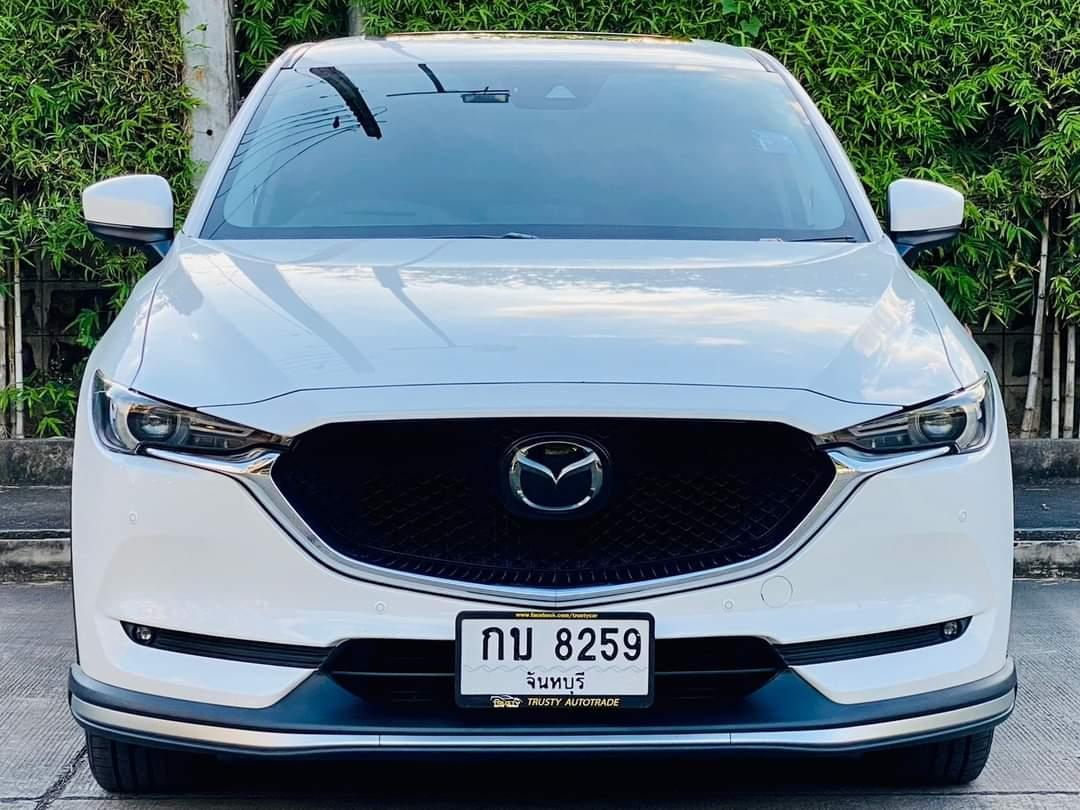license-plate: (454, 605, 658, 713)
